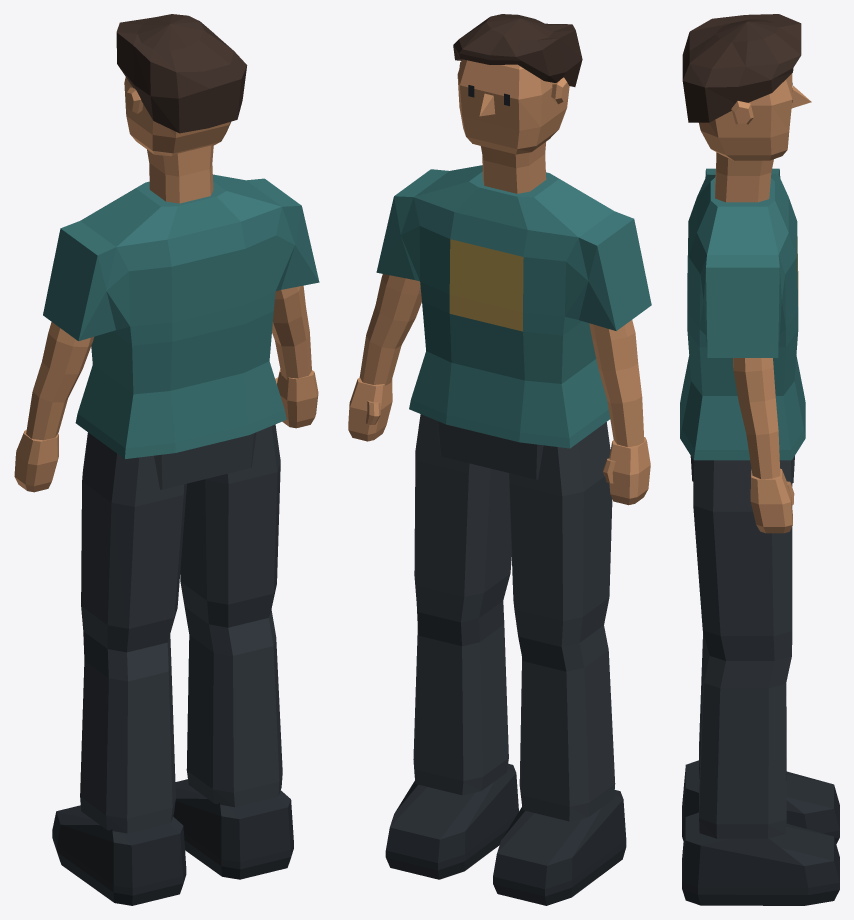
Rendered from lwf_attendee_male_relaxed_v1.glb.
3 views of the same model, side by side, from view 1: azimuth 30°, elevation 25°; view 2: azimuth 150°, elevation 25°; view 3: azimuth 270°, elevation 25° (orthographic).
Visible parts, largest first — view 1: Attendee_male_relaxed; view 2: Attendee_male_relaxed; view 3: Attendee_male_relaxed.
Part boxes in pixels (bbox=[...]): Attendee_male_relaxed: bbox=[14, 14, 319, 905]; Attendee_male_relaxed: bbox=[348, 14, 651, 905]; Attendee_male_relaxed: bbox=[680, 14, 839, 905].
Bounding box in the file's own units: 0.632 × 1.75 × 0.303.
1 material, 1 textured.
